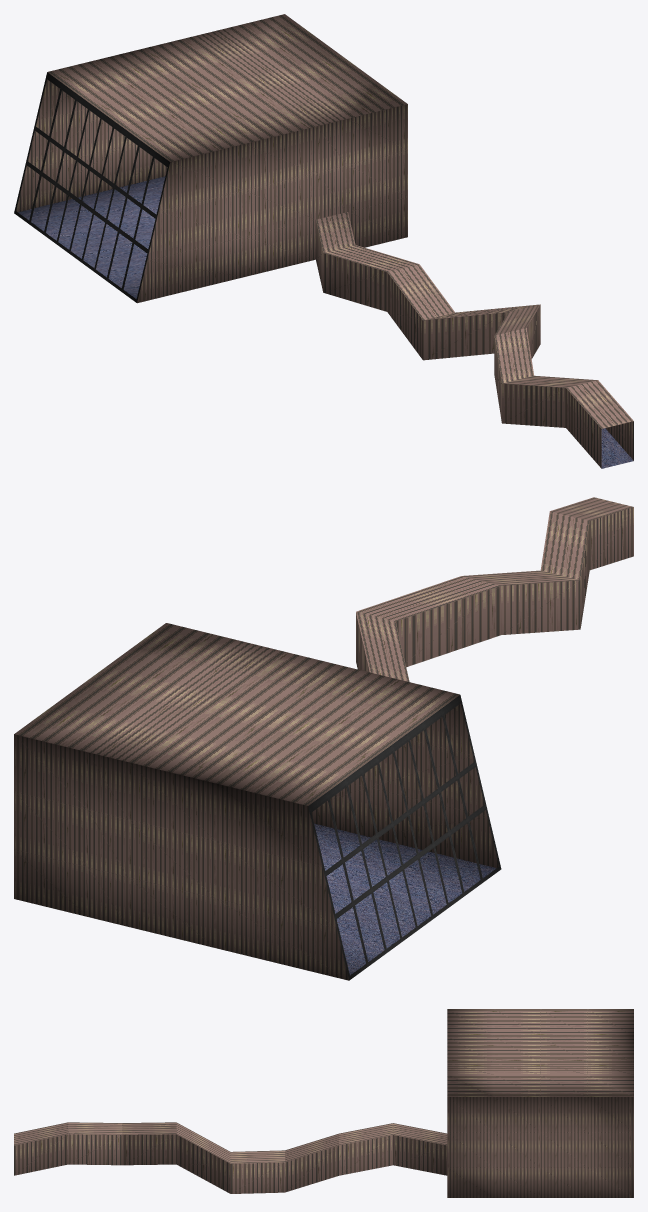
Rendered from conv_hall.glb.
3 renders of one model, top to bottom at view 1: azimuth 30°, elevation 25°; view 2: azimuth 150°, elevation 25°; view 3: azimuth 270°, elevation 25°, orthographic. The views are drawn at different scales.
Parts seen in each view (by area): view 1: Cube; view 2: Cube; view 3: Cube.
Boxes of the visible parts, left/top/right/bottom form: Cube: left=14, top=14, right=633, bottom=468; Cube: left=14, top=497, right=633, bottom=980; Cube: left=14, top=1009, right=633, bottom=1197.
Bounding box in the file's own units: 38.28 × 20.97 × 100.
Materials: 3 (3 with a texture image).
